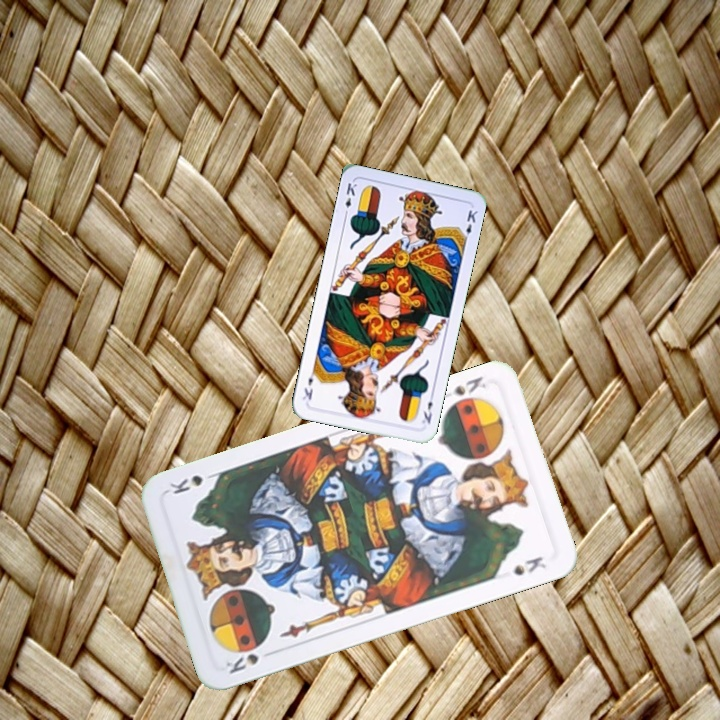EK: (340, 179, 359, 219), (418, 389, 436, 426)
SK: (221, 640, 278, 677), (448, 372, 489, 399)
